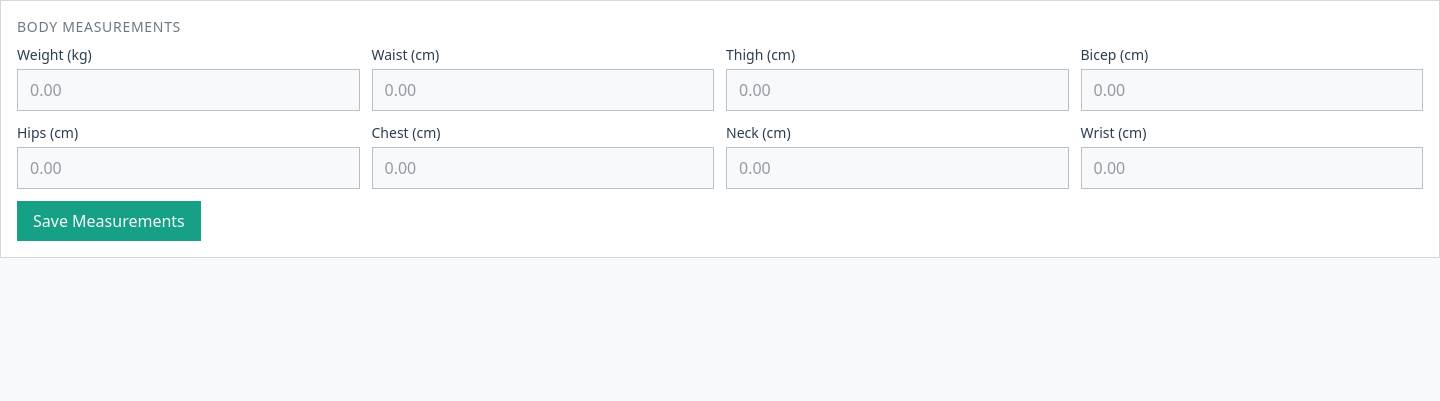
MeasurementLogger › accepts the IEEE-754 edge case 39.59 without a precision error
Type "39.59" into the number field labelled "Bicep (cm)". click: [1252, 90]
box: [1080,69,1423,111]
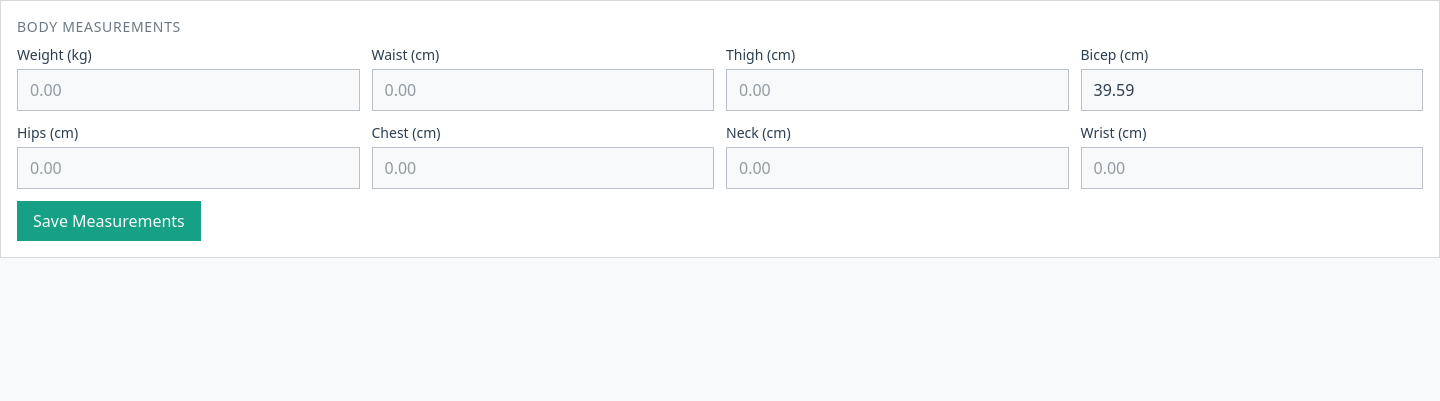
Click the button "Save Measurements". click: [109, 221]
box: [17,201,201,241]
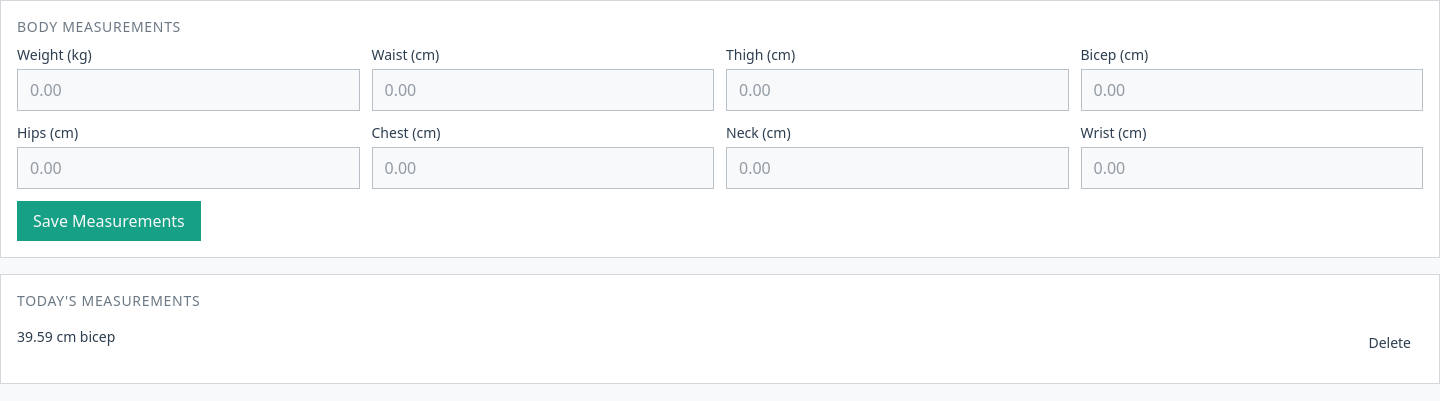
Check: the text "39.59 cm bicep" is shown, box [17,327,115,347]
